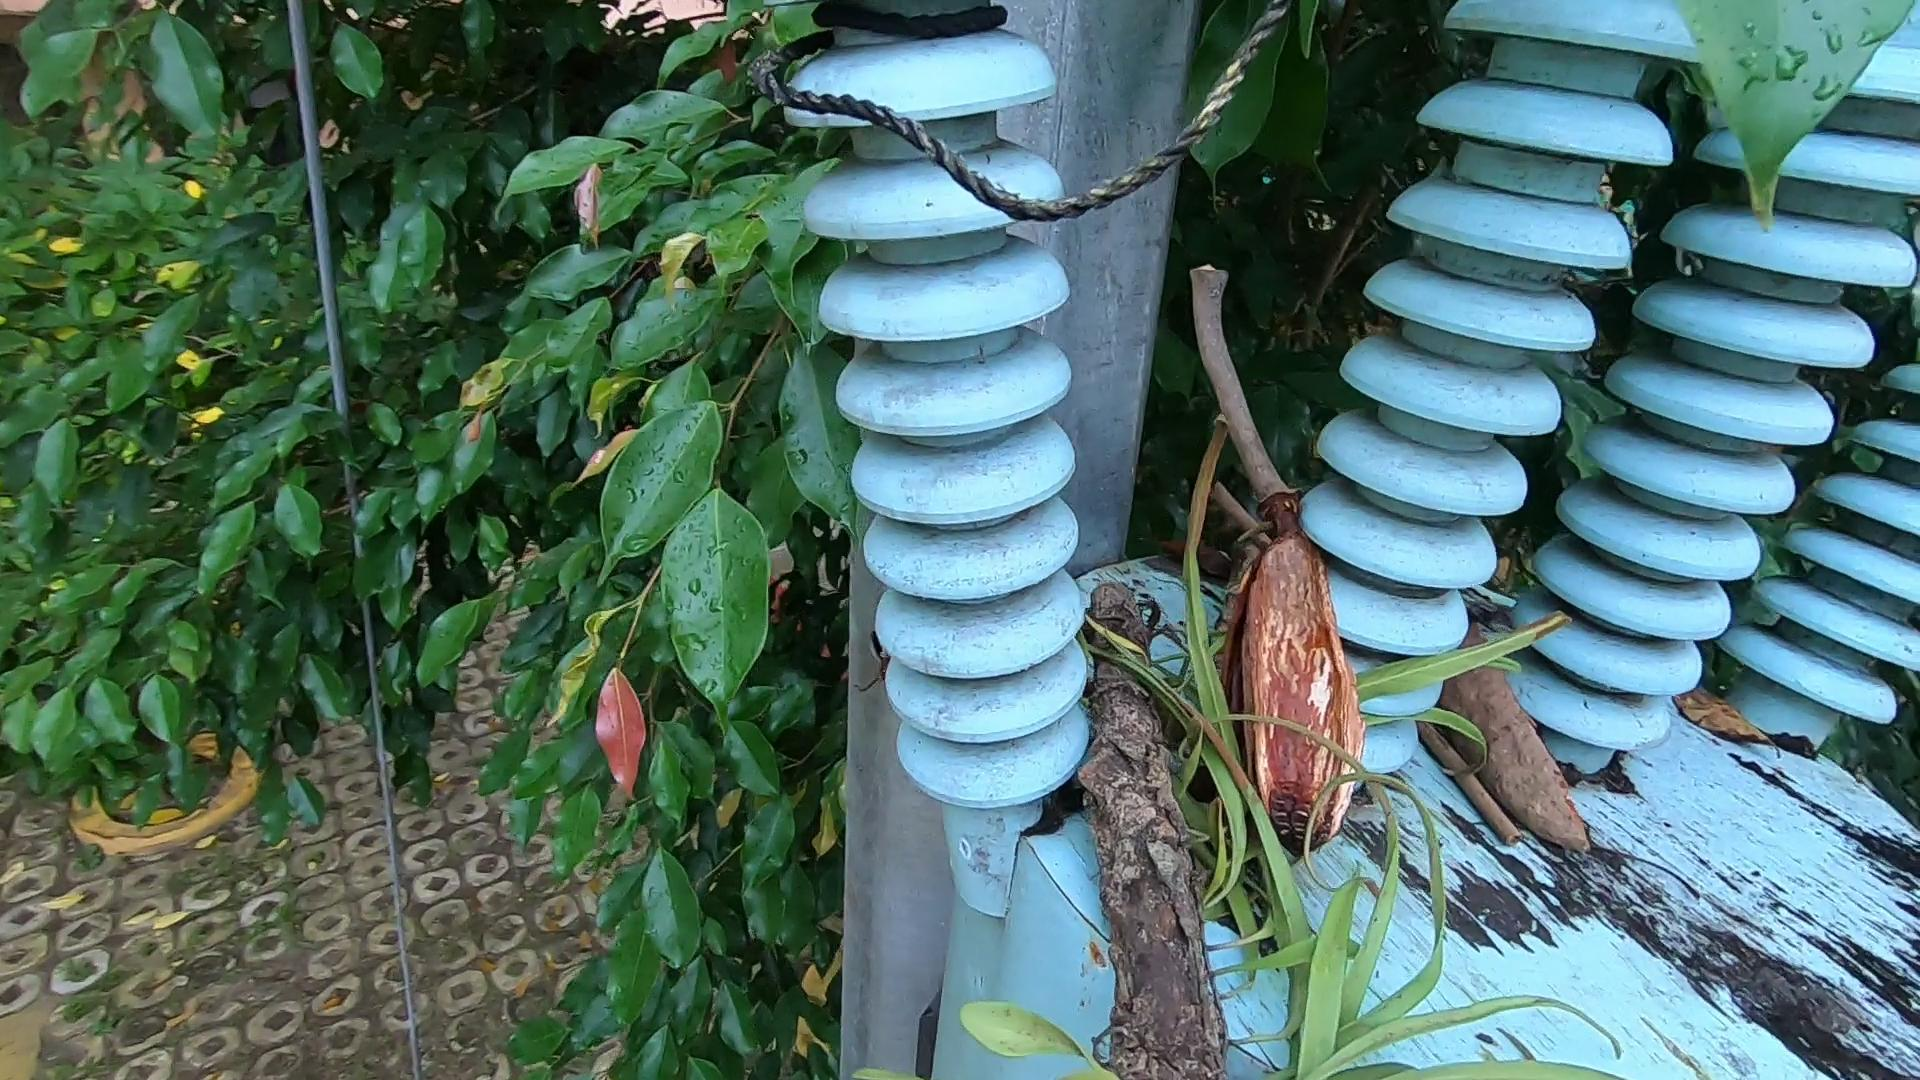branch with leaves: (960, 400, 1625, 1080)
leaf: (1676, 688, 1789, 749)
mahogany fruit: (1218, 483, 1400, 869), (1453, 601, 1626, 876)
tree branch: (1172, 262, 1378, 853), (1404, 705, 1528, 851)
